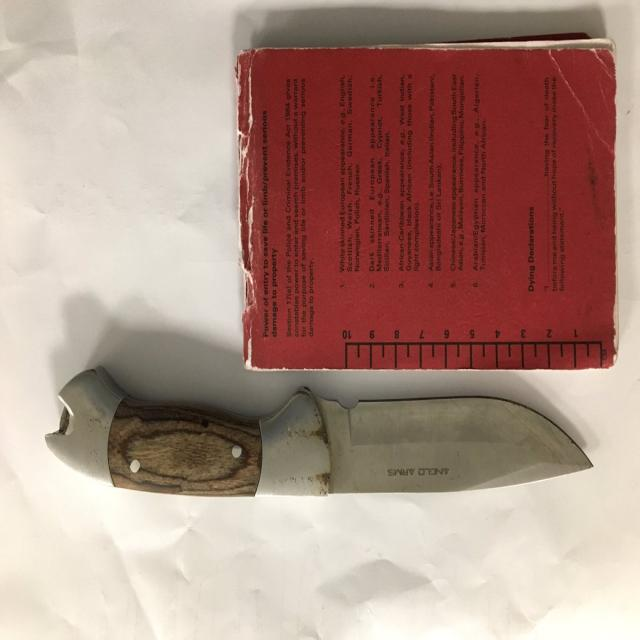Sharp-Object: (47, 366, 595, 500)
